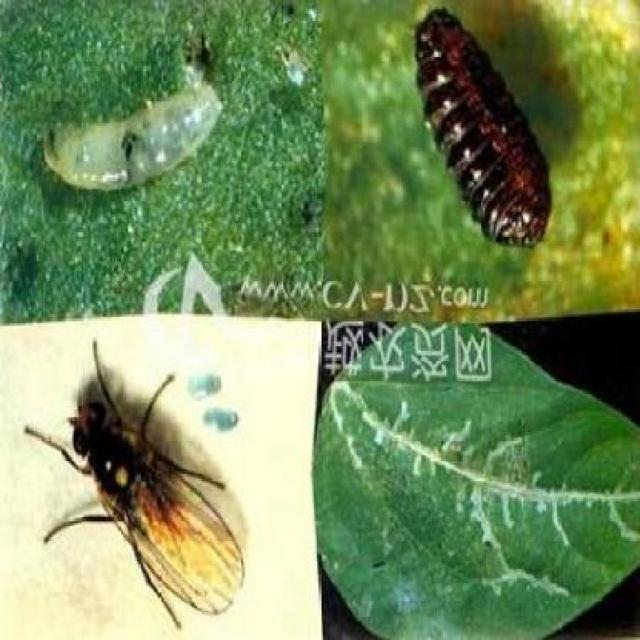whorl-maggot: (391, 3, 555, 255), (35, 57, 238, 194)
